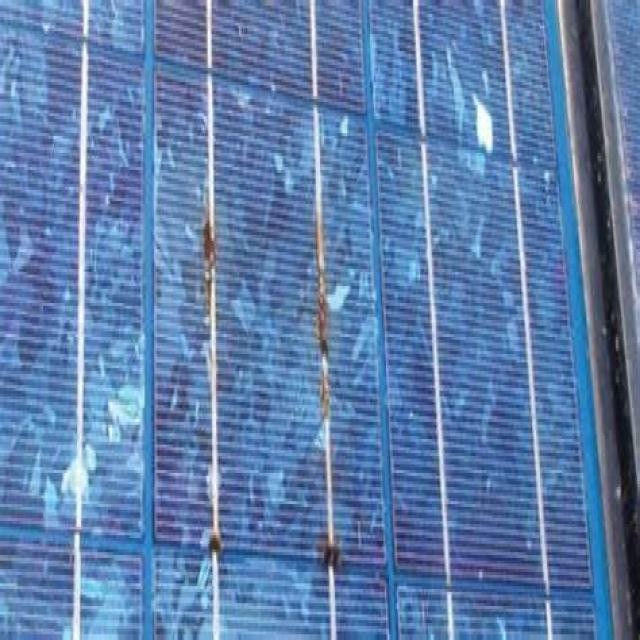electrical damage: (146, 51, 384, 605)
